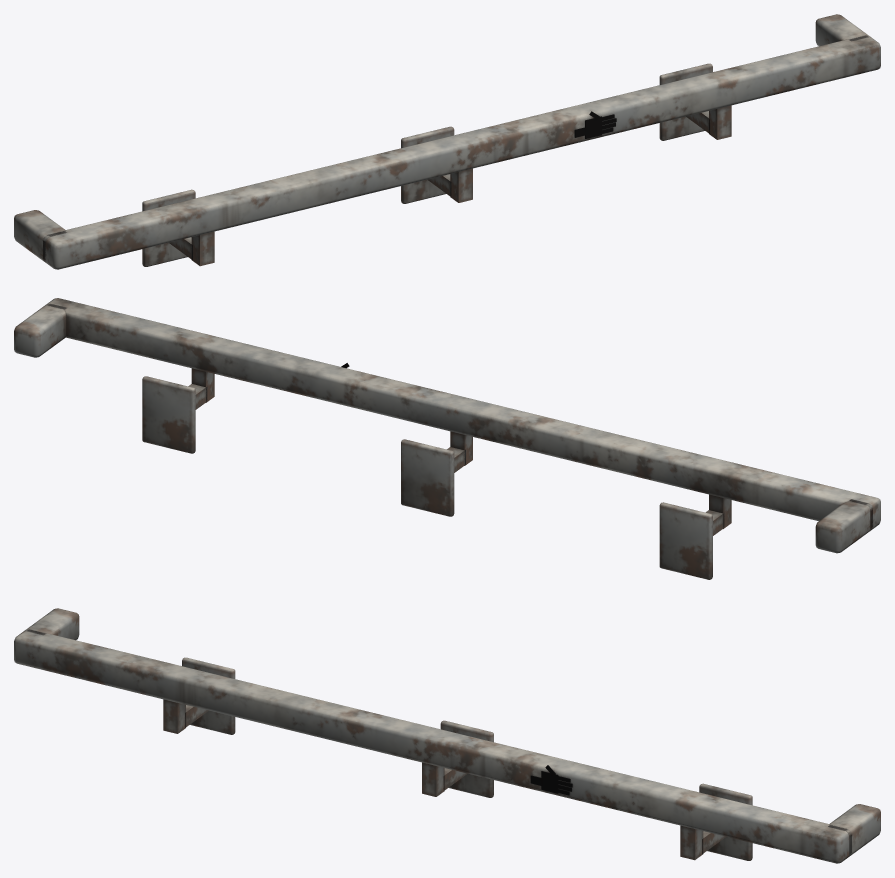
The model's file is handrail.fbx.
The picture shows the model from 3 angles, top to bottom: view 1: azimuth 30°, elevation 25°; view 2: azimuth 150°, elevation 25°; view 3: azimuth 330°, elevation 25°; orthographic projection.
Parts seen in each view (by area): view 1: Body; view 2: Body; view 3: Body.
Boxes of the visible parts, x1=… form: Body: x1=14, y1=14, x2=880, y2=269; Body: x1=14, y1=298, x2=880, y2=579; Body: x1=14, y1=608, x2=880, y2=863.
Bounding box in the file's own units: 8 × 0.8055 × 0.734.
1 material, 1 textured.
